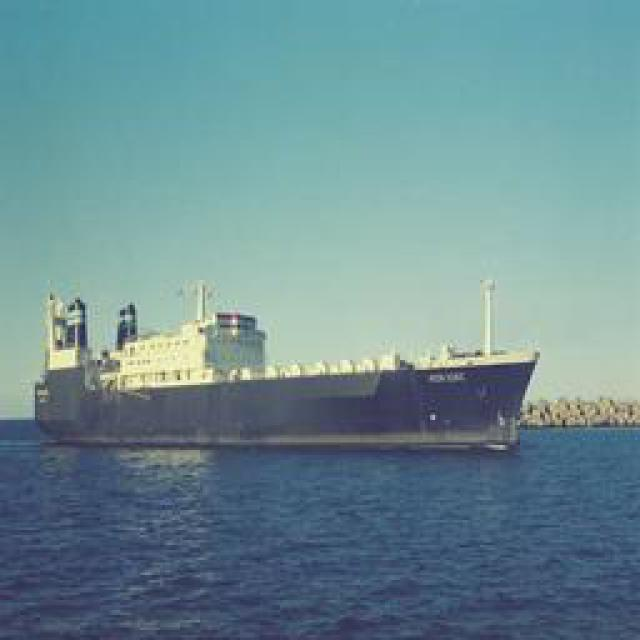Ship: (36, 286, 564, 446)
